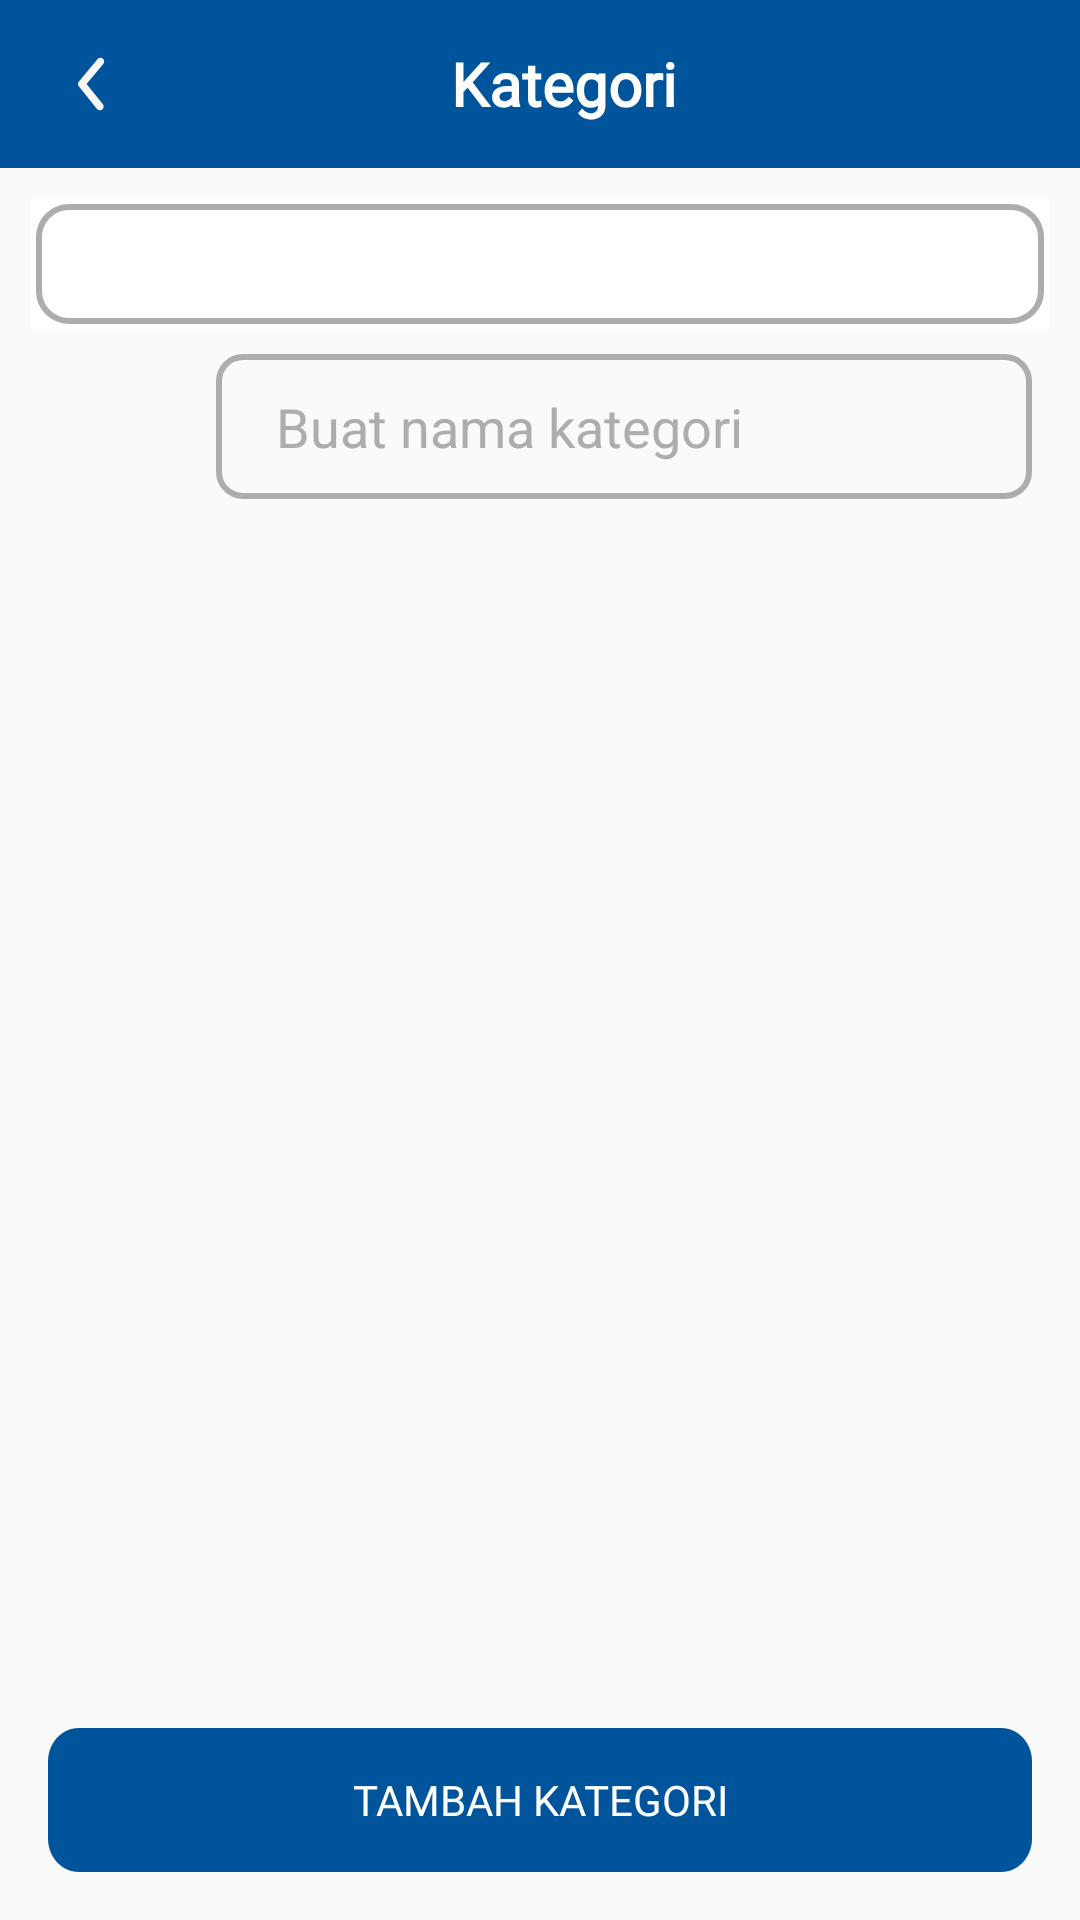

Locate icon controls on the screen. Image size 1080×1920, boxes as (x1, y1, x2, y2).
back arrow: (78, 57, 105, 111)
